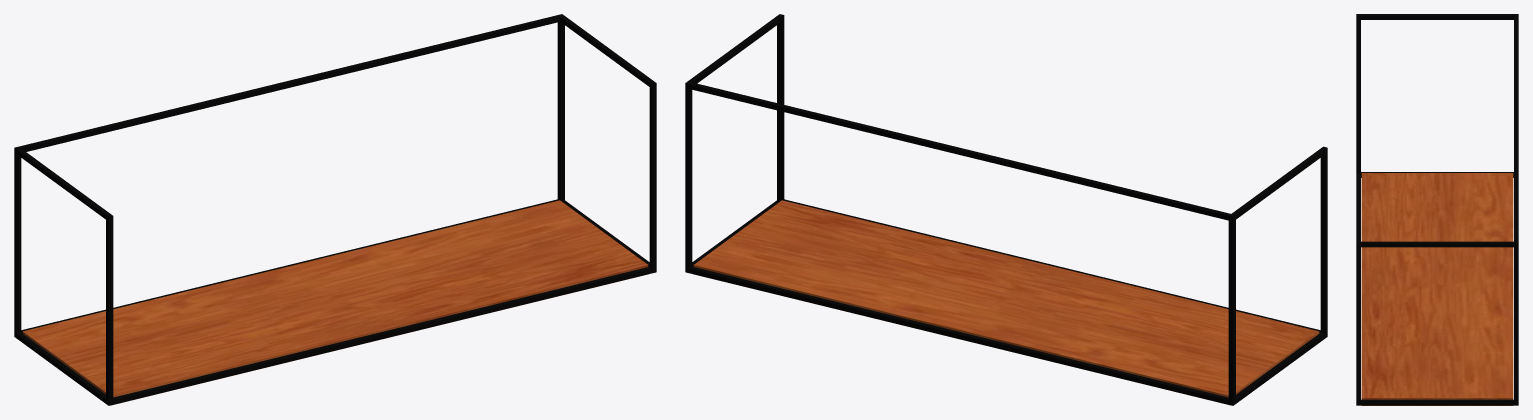
The model's file is shelf-05-a.glb.
3 views of the same model, side by side, from view 1: azimuth 30°, elevation 25°; view 2: azimuth 150°, elevation 25°; view 3: azimuth 270°, elevation 25° (orthographic). The views are drawn at different scales.
Parts seen in each view (by area): view 1: Shelf_05_a; view 2: Shelf_05_a; view 3: Shelf_05_a.
Boxes of the visible parts, x1=… form: Shelf_05_a: x1=14, y1=14, x2=656, y2=405; Shelf_05_a: x1=685, y1=14, x2=1327, y2=405; Shelf_05_a: x1=1356, y1=14, x2=1518, y2=405.
Size of the model in its own units: 3.01 by 1.01 by 0.9001.
Materials: 1 (1 with a texture image).
